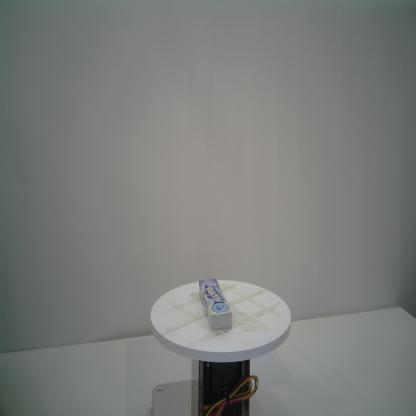Candy: (198, 276, 232, 332)
